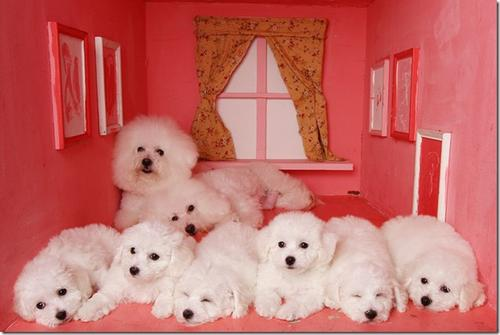dog: (114, 122, 182, 201), (15, 269, 91, 325), (402, 262, 479, 317), (262, 220, 330, 280), (106, 230, 178, 284), (332, 279, 403, 327), (162, 277, 227, 328), (158, 184, 214, 239)
